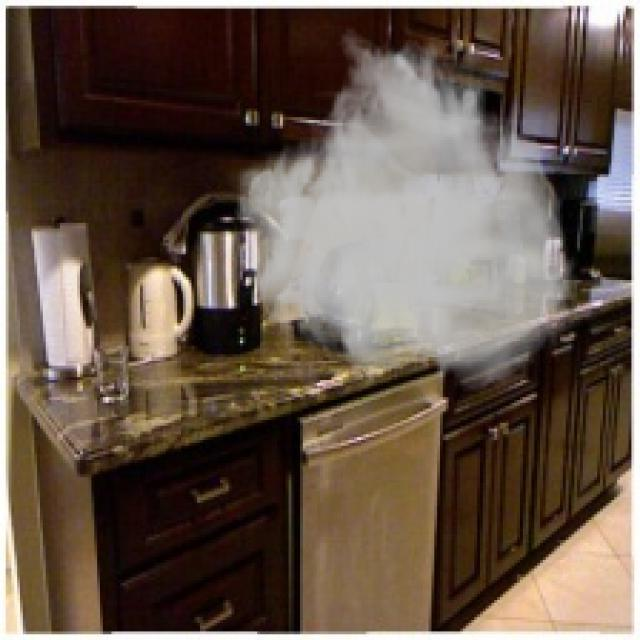Smoke: (231, 26, 580, 394)
